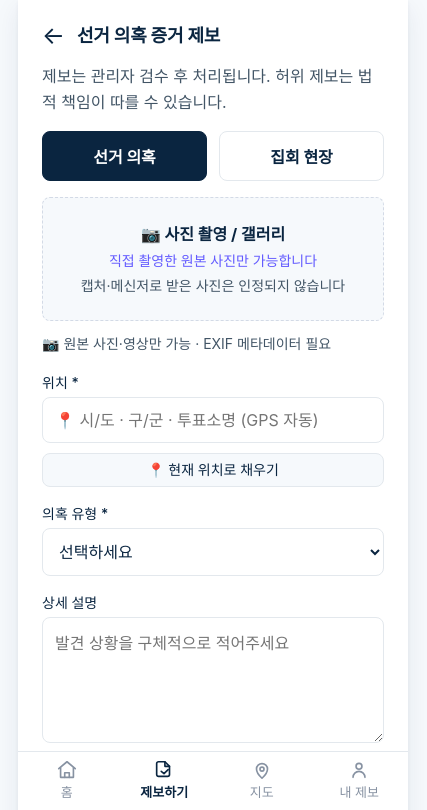
Test: ReportForm 도메인 세그먼트(0014) › 제출 payload에 선택한 domain을 포함한다(assembly)
In the text box labelled "상세 설명": point(213, 680) [42,617,384,743], type "집회 현장 관찰"
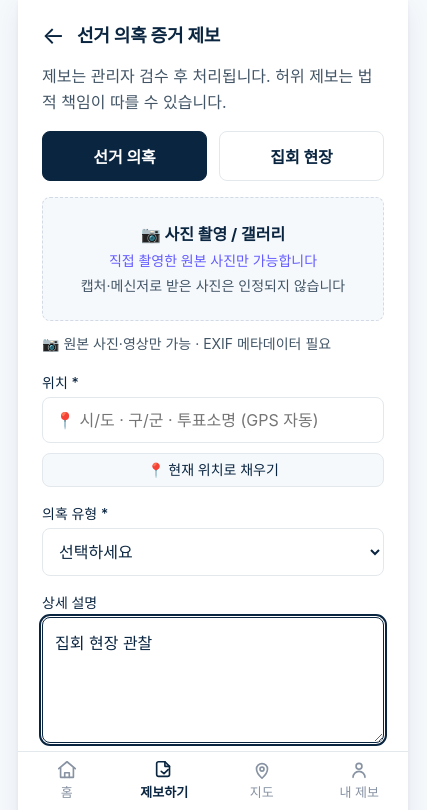
Click the button "집회 현장": point(302, 156) [219,131,384,181]
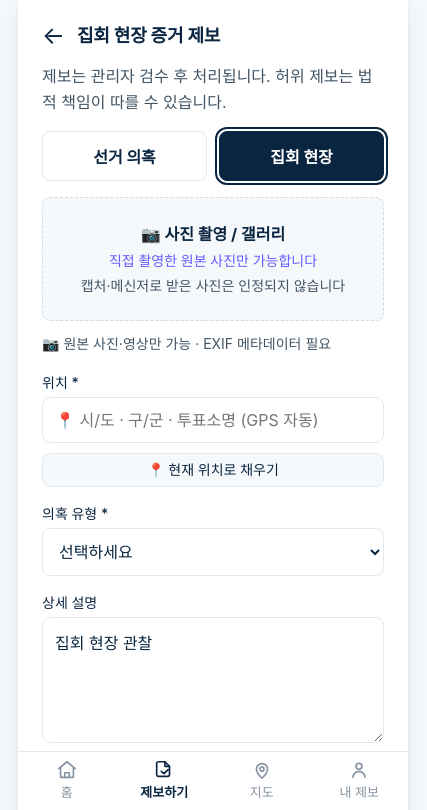
Select "채증·촬영" in the dropdown labelled "의혹 유형": point(213, 552) [42,528,384,576]
(page scrolled)
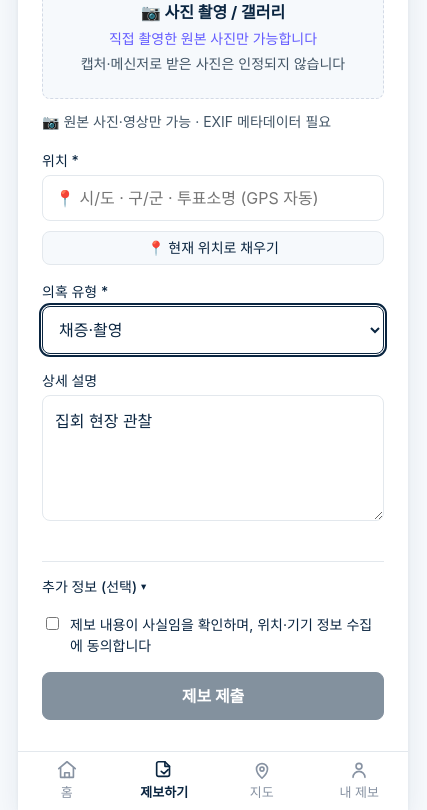
Click the checkbox labelled "제보 내용이 사실임을 확인하며, 위치·기기 정보 수집에 동의합니다": point(52, 624) [46,617,59,630]
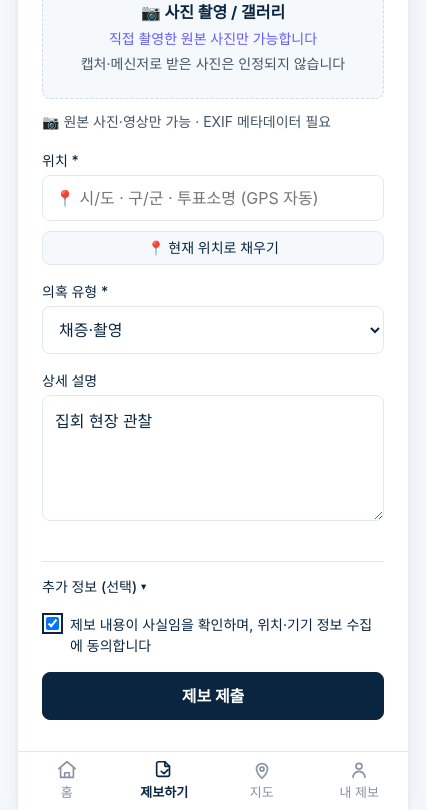
Click the button "제보 제출": point(213, 696) [42,672,384,720]
(page scrolled)
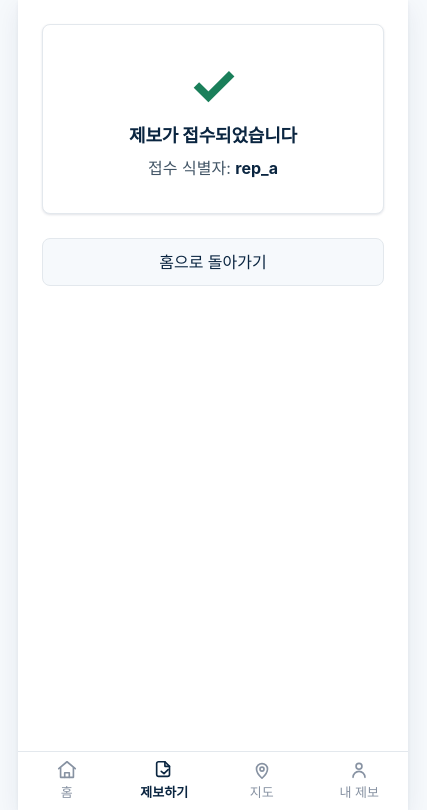
Expected: the heading "제보가 접수되었습니다" is shown, [129,125,297,146]
